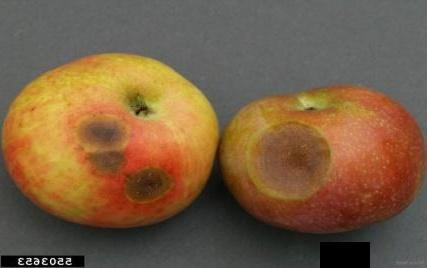rotten apple: (0, 51, 220, 243), (218, 81, 426, 236)
